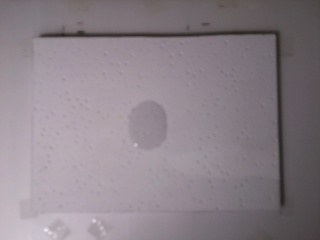Water_detected: (127, 104, 164, 147)
